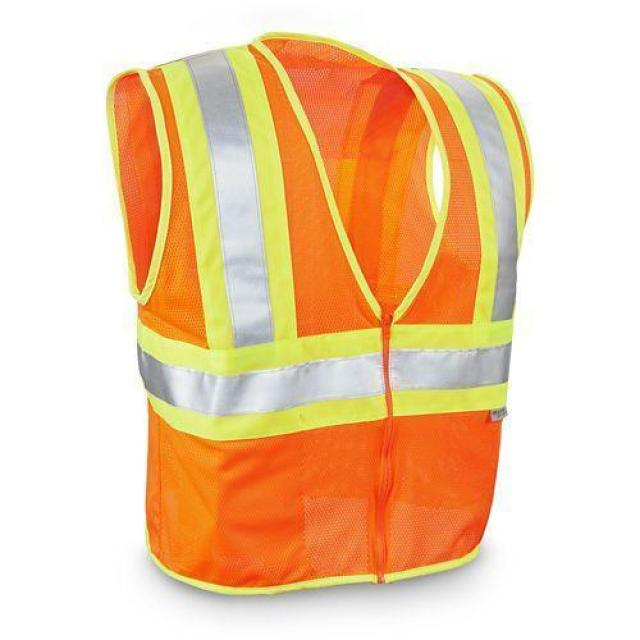Vest: (101, 22, 534, 605)
